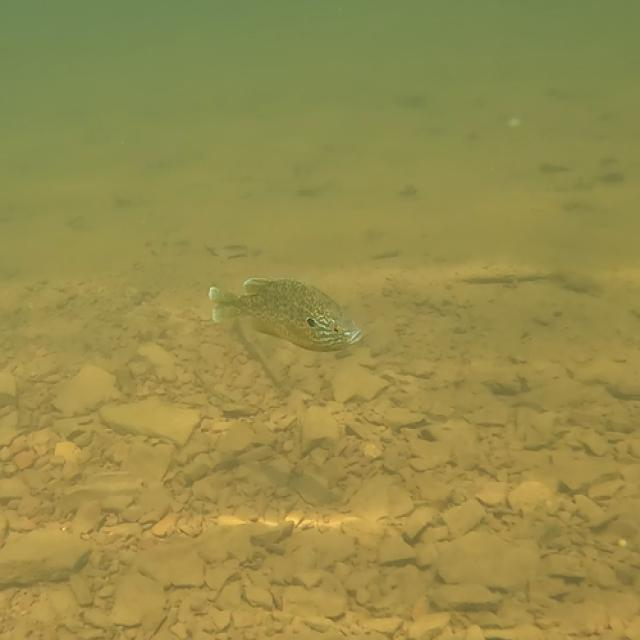Gunes Levregi: (207, 278, 370, 359)
